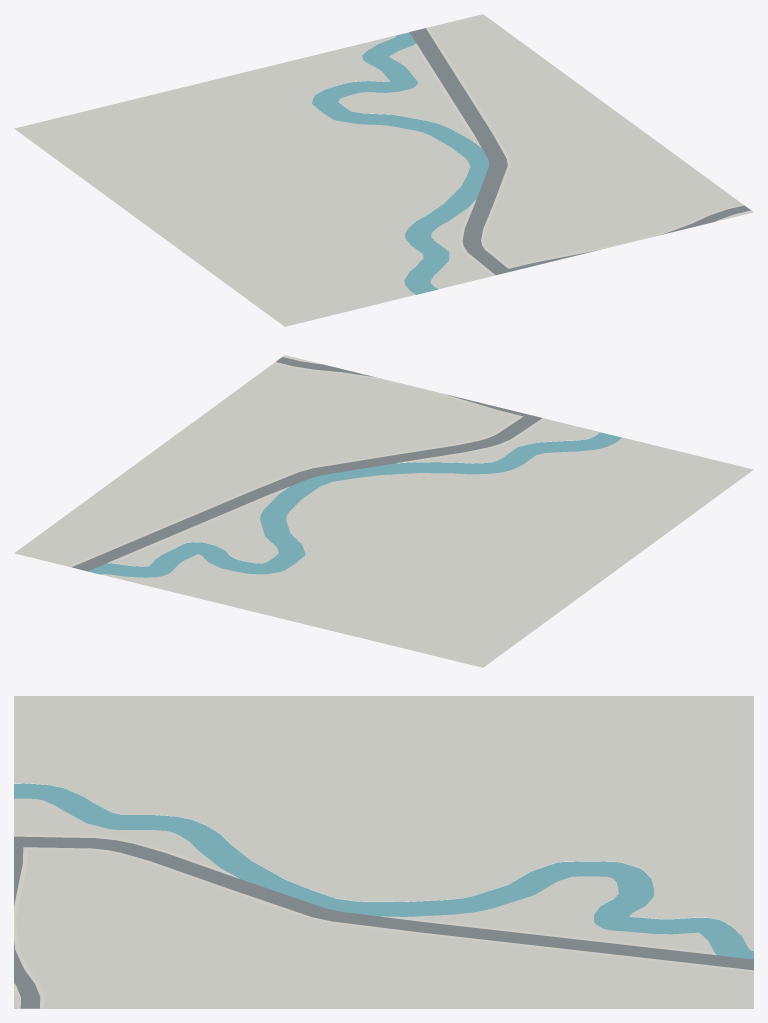
3 views of the same model, one above another, from view 1: azimuth 30°, elevation 25°; view 2: azimuth 150°, elevation 25°; view 3: azimuth 270°, elevation 25° (orthographic). The views are drawn at different scales.
Visible parts, largest first — view 1: city; view 2: city; view 3: city.
Part boxes in pixels (x1,y1,x2,y2): city: (14, 14, 753, 326); city: (14, 355, 753, 667); city: (14, 696, 753, 1008).
Size of the model in its own units: 500 by 0.4 by 500.
